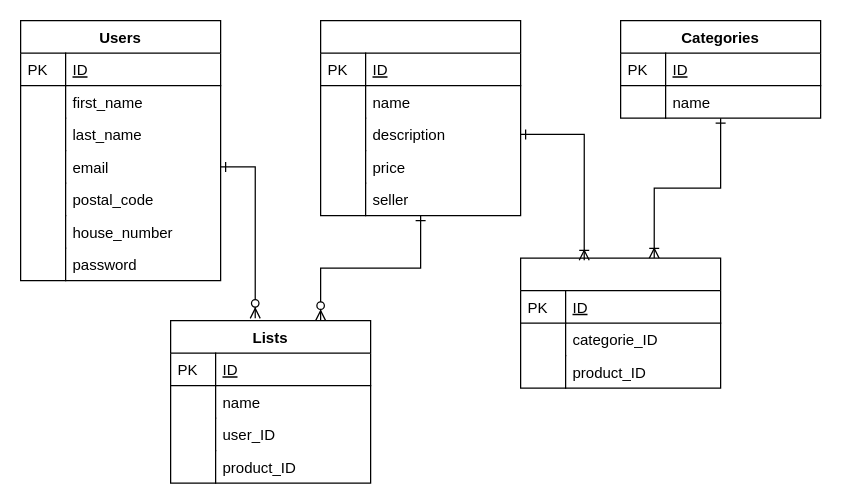
Image size: 841x504. Some labels were removed from this diagram. Each missing label, with the box of its shape:
cat_pro: (519, 257, 721, 388)
Products: (319, 19, 521, 216)
